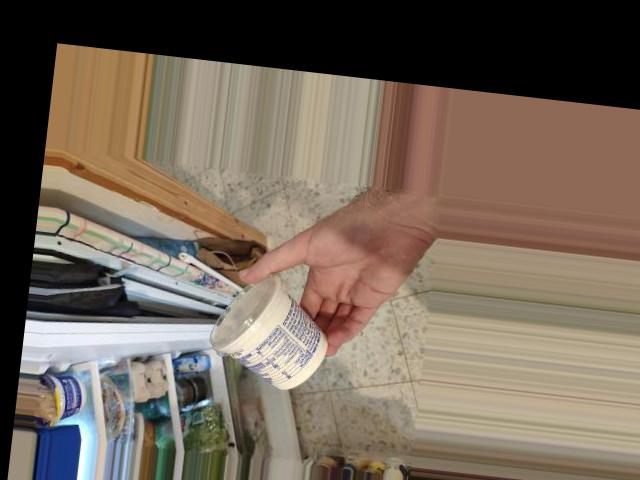cotage: (213, 260, 339, 383)
